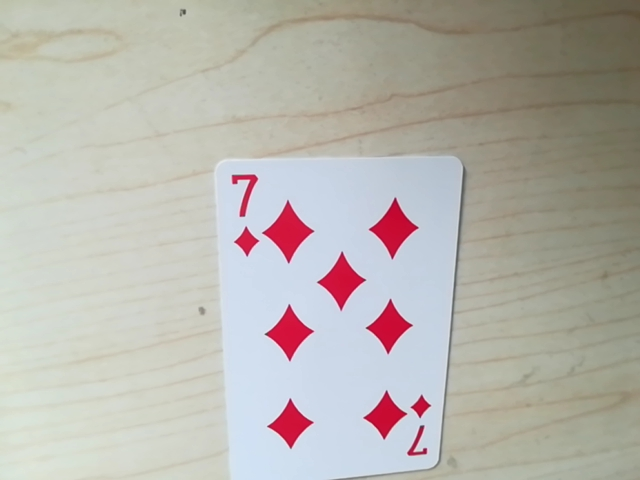fk 7: (405, 399, 435, 469), (222, 163, 263, 208)
